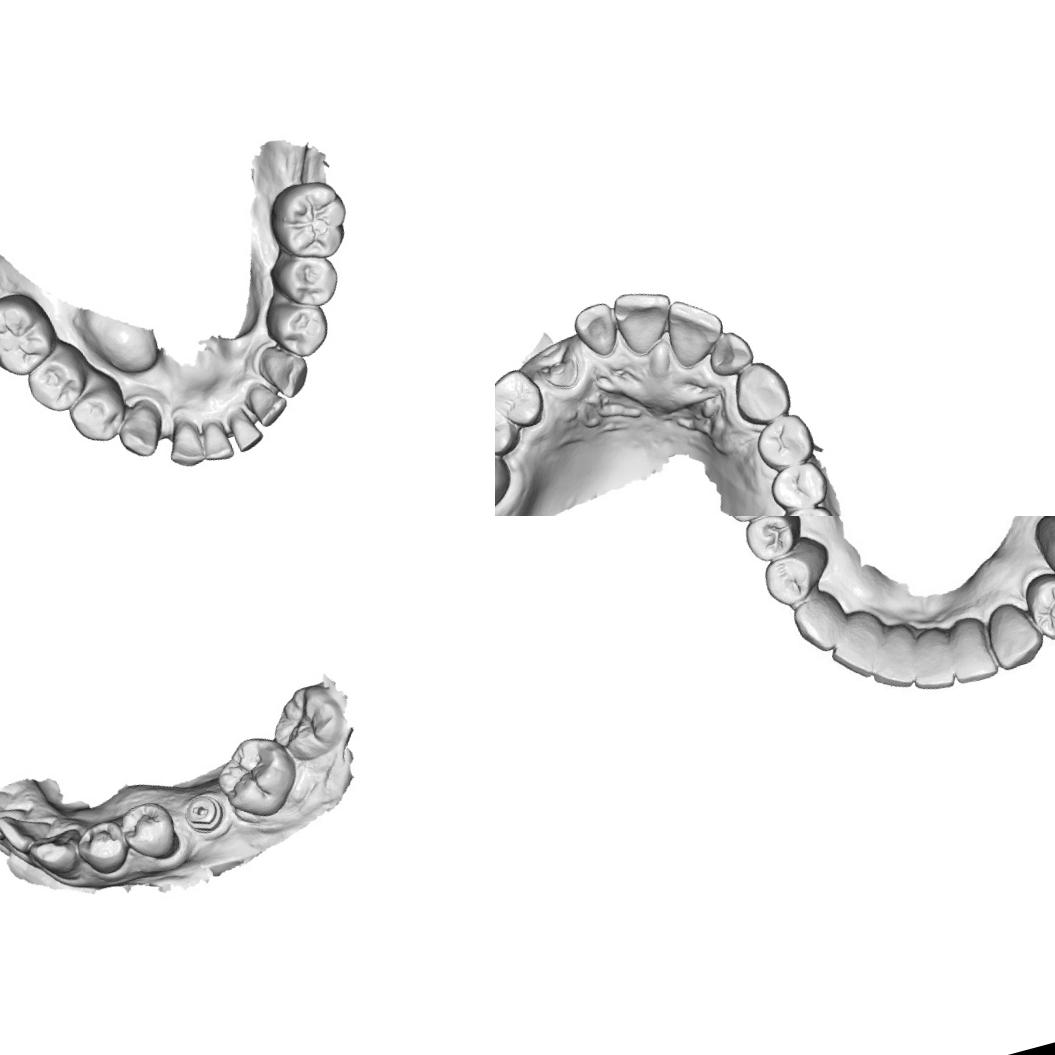canine: (979, 594, 1047, 678), (727, 354, 798, 430), (785, 584, 854, 657), (23, 824, 91, 890), (256, 340, 315, 404), (109, 401, 167, 463)
implant_minus: (177, 788, 229, 838)
incisor: (821, 603, 900, 687), (658, 288, 732, 370), (607, 280, 682, 360), (900, 620, 961, 699), (938, 611, 1000, 687), (860, 622, 922, 696), (566, 296, 624, 363), (0, 801, 59, 860), (702, 325, 759, 377), (242, 376, 293, 430), (160, 418, 207, 472), (194, 415, 236, 466), (224, 406, 266, 456), (0, 796, 31, 846)
molar: (207, 726, 306, 828), (260, 171, 358, 270), (262, 676, 356, 770), (0, 283, 65, 385), (495, 417, 521, 516), (766, 497, 845, 516)
premolar: (259, 290, 336, 365), (266, 246, 346, 318), (20, 345, 94, 419), (114, 793, 183, 868), (748, 408, 820, 475), (62, 379, 130, 449), (70, 814, 134, 880), (495, 362, 551, 436), (765, 454, 830, 514), (758, 548, 820, 610), (740, 516, 804, 565), (1021, 565, 1055, 642), (495, 393, 523, 463)
